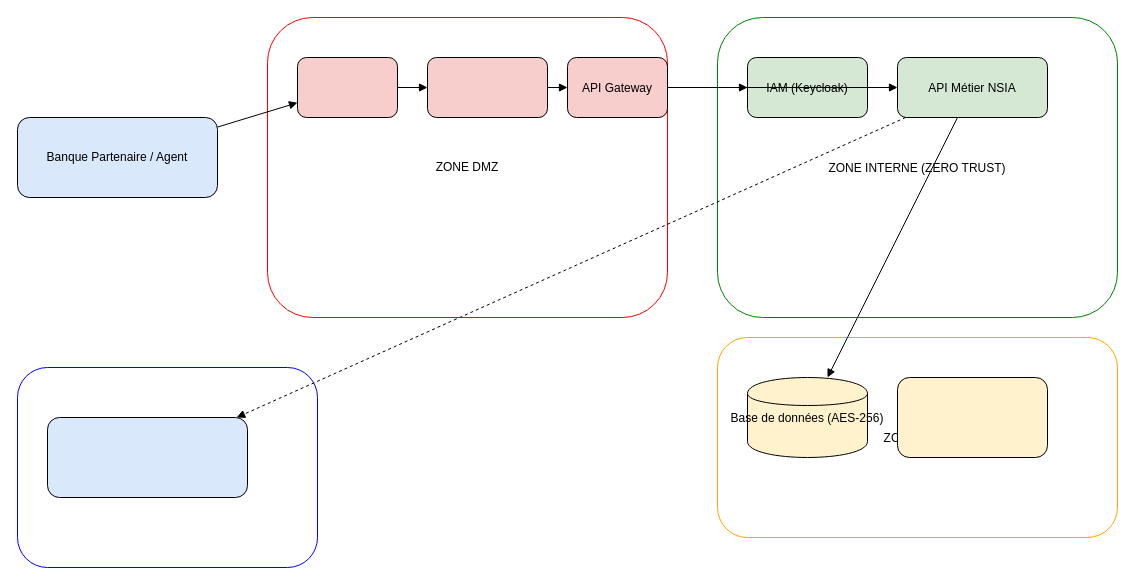
Image size: 1135x585. Some labels were removed from this diagram. Here are the shapes that lost their labels. From the top down, the centre of each, then its label:
the point at 347,87: WAF
the point at 487,87: Load Balancer
the point at 972,417: HashiCorp Vault
the point at 147,457: SIEM (Wazuh)
